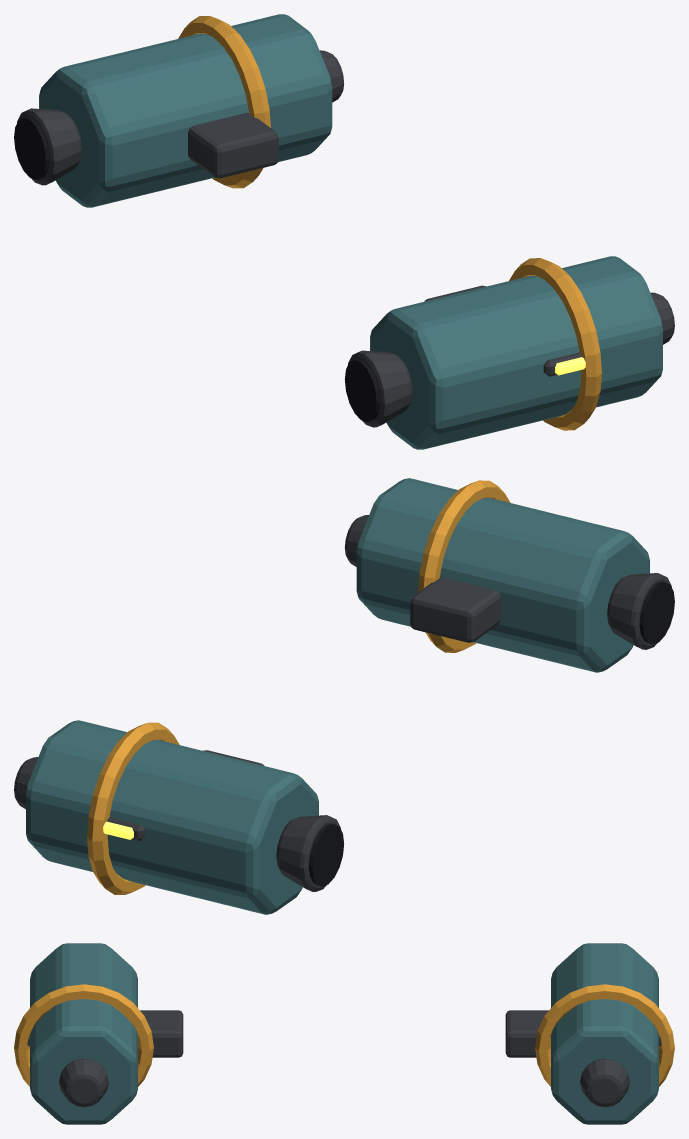
The model's file is maneuver-mk2.glb.
3 renders of one model, top to bottom at view 1: azimuth 30°, elevation 25°; view 2: azimuth 150°, elevation 25°; view 3: azimuth 270°, elevation 25°, orthographic. The views are drawn at different scales.
Visible parts, largest first — view 1: maneuver_mk2 body; view 2: maneuver_mk2 body; view 3: maneuver_mk2 body.
Part boxes in pixels (x1=…): maneuver_mk2 body: x1=14, y1=14, x2=674, y2=449; maneuver_mk2 body: x1=14, y1=478, x2=674, y2=914; maneuver_mk2 body: x1=14, y1=943, x2=674, y2=1124.
Bounding box in the file's own units: 1.7 × 0.86 × 4.06.
